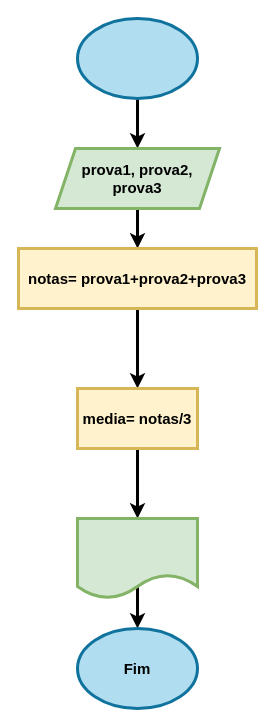
Some shapes in this 275 by 727 pixel diagram are drawn without their labels. The shapes that lost their labels are listed below. From the top down, each one's box as (x1, y1, x2, y2) in pixels, then its label:
(76, 16, 198, 100): Inicio
(76, 516, 198, 600): media
